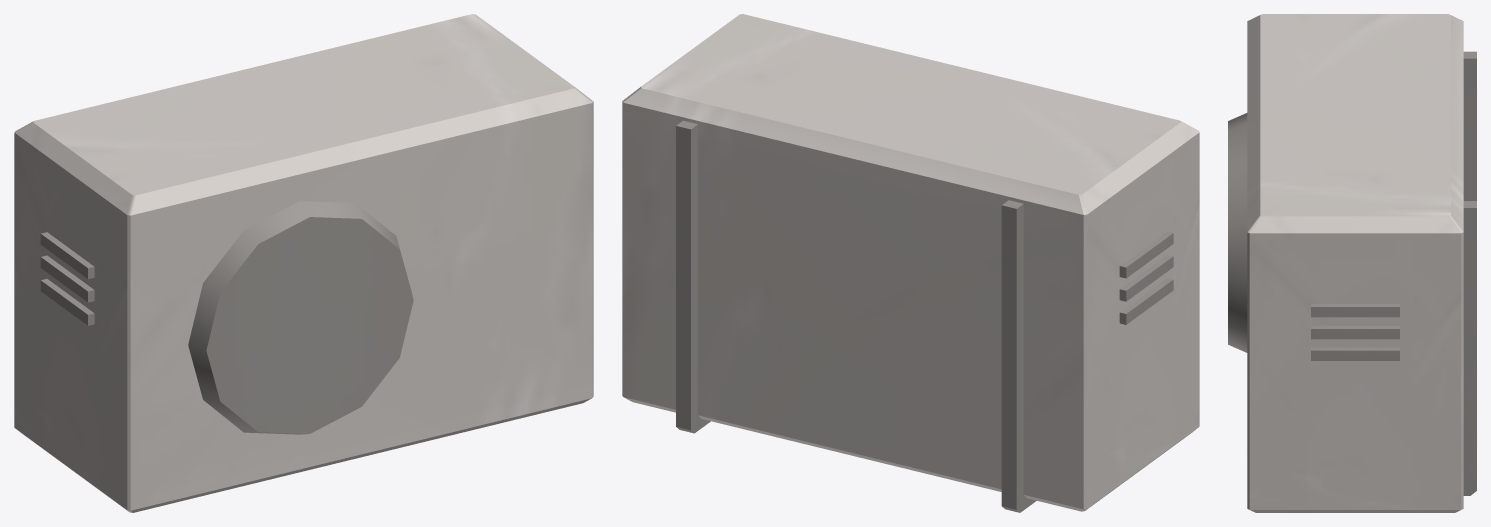
The model's file is air_conditioner_2.fbx.
3 views of the same model, side by side, from view 1: azimuth 30°, elevation 25°; view 2: azimuth 150°, elevation 25°; view 3: azimuth 270°, elevation 25° (orthographic). The views are drawn at different scales.
Parts seen in each view (by area): view 1: polySurface1085; view 2: polySurface1085; view 3: polySurface1085.
Part boxes in pixels (x1=…): polySurface1085: x1=14, y1=14, x2=593, y2=512; polySurface1085: x1=622, y1=14, x2=1199, y2=512; polySurface1085: x1=1228, y1=14, x2=1476, y2=512.
Bounding box in the file's own units: 71.94 × 46.37 × 34.55.
Materials: 1 (1 with a texture image).
